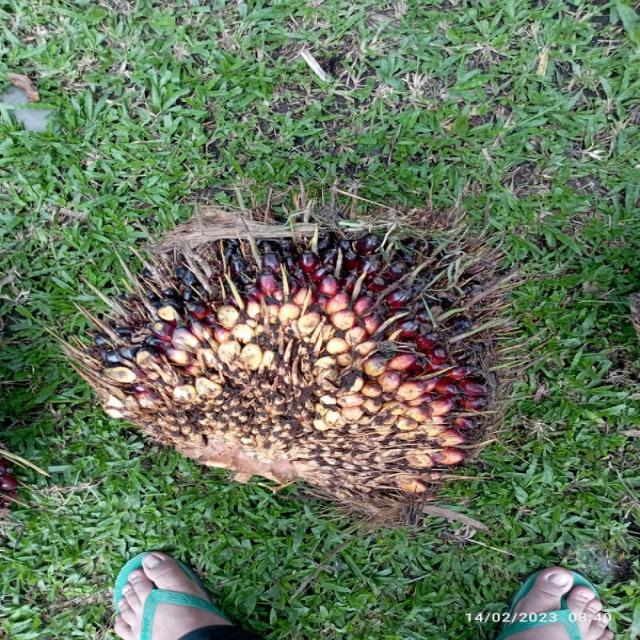fraksi 1: (68, 206, 526, 504)
